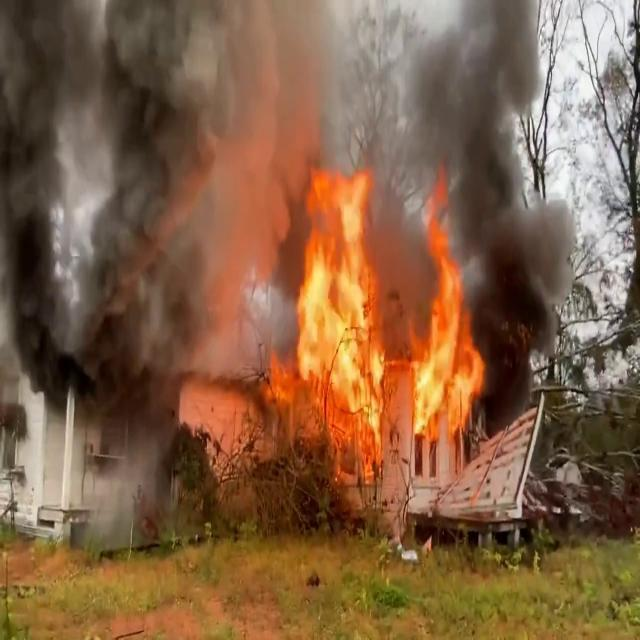Fire: (271, 161, 490, 475)
Smoke: (0, 0, 278, 489), (372, 0, 584, 348)
